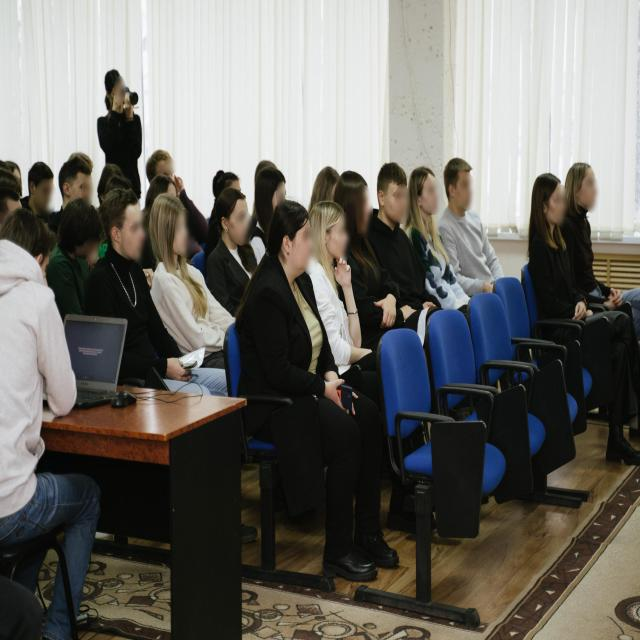Person: (238, 204, 396, 582), (526, 173, 638, 494), (152, 200, 225, 363), (92, 182, 152, 362), (310, 196, 366, 384), (372, 159, 432, 331), (412, 156, 460, 317), (437, 149, 494, 284), (338, 173, 392, 310), (59, 196, 103, 327), (91, 68, 141, 178), (212, 182, 258, 300), (571, 155, 601, 295), (253, 168, 292, 228), (146, 144, 186, 194), (26, 158, 55, 222), (64, 155, 86, 206)
